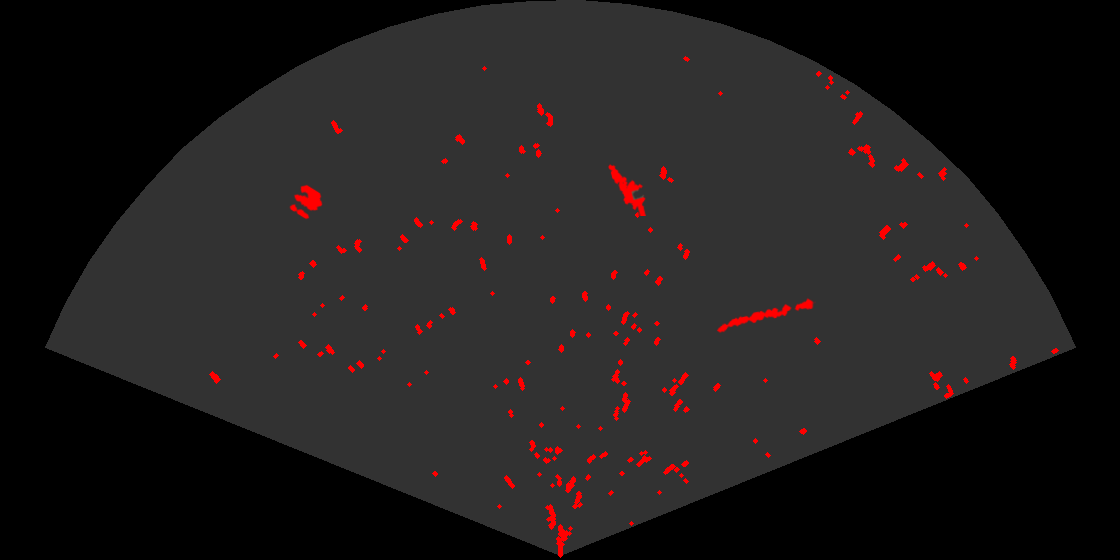ball: (288, 183, 324, 221)
chain: (715, 296, 816, 335)
frogman: (607, 162, 648, 216)
